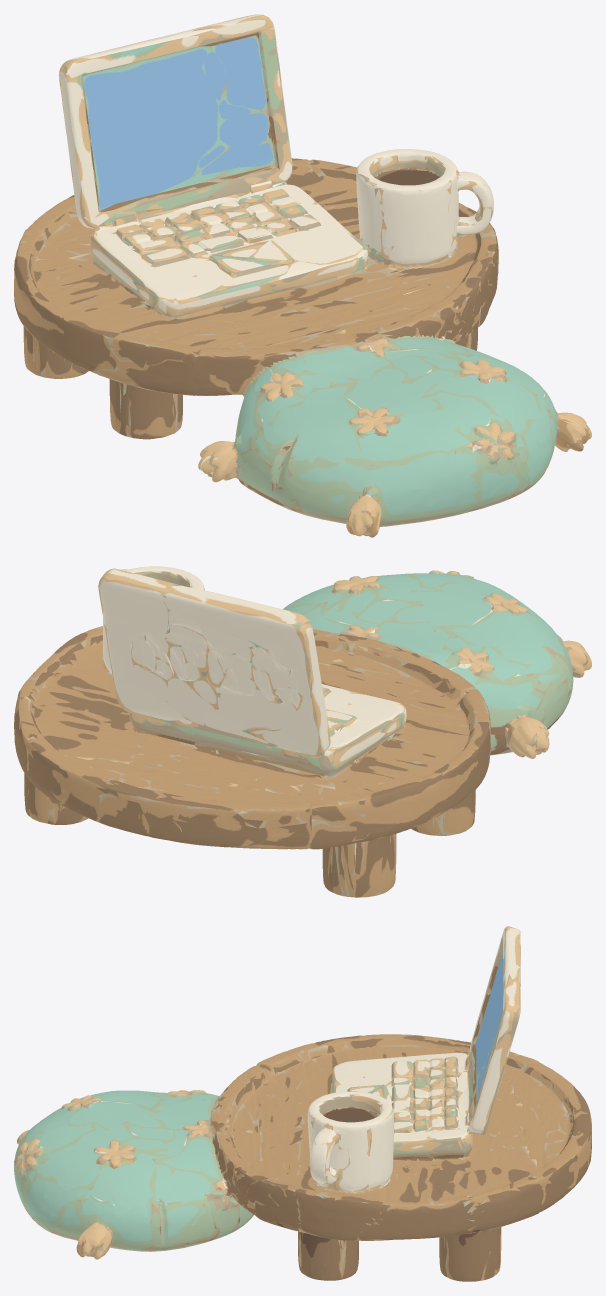
File: round-laptop-workstation-flat-source-v4.glb
3 renders of one model, top to bottom at view 1: azimuth 30°, elevation 25°; view 2: azimuth 150°, elevation 25°; view 3: azimuth 270°, elevation 25°, orthographic. The views are drawn at different scales.
Parts seen in each view (by area): view 1: round-laptop-workstation-flat-source-v4; view 2: round-laptop-workstation-flat-source-v4; view 3: round-laptop-workstation-flat-source-v4.
Part boxes in pixels (left/top/right/bottom): round-laptop-workstation-flat-source-v4: left=14, top=14, right=591, bottom=537; round-laptop-workstation-flat-source-v4: left=14, top=566, right=591, bottom=897; round-laptop-workstation-flat-source-v4: left=14, top=926, right=591, bottom=1281.
Bounding box in the file's own units: 1.35 × 0.8513 × 1.9.
1 material, 1 textured.
